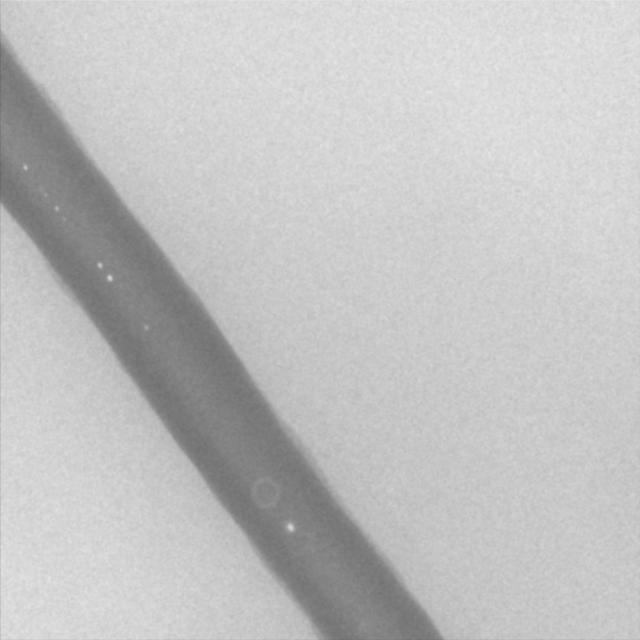air hole: (285, 521, 296, 535), (95, 259, 103, 271), (141, 322, 150, 332), (105, 273, 114, 283), (21, 162, 29, 172), (53, 203, 60, 213)
hollow bead: (250, 475, 281, 510)
